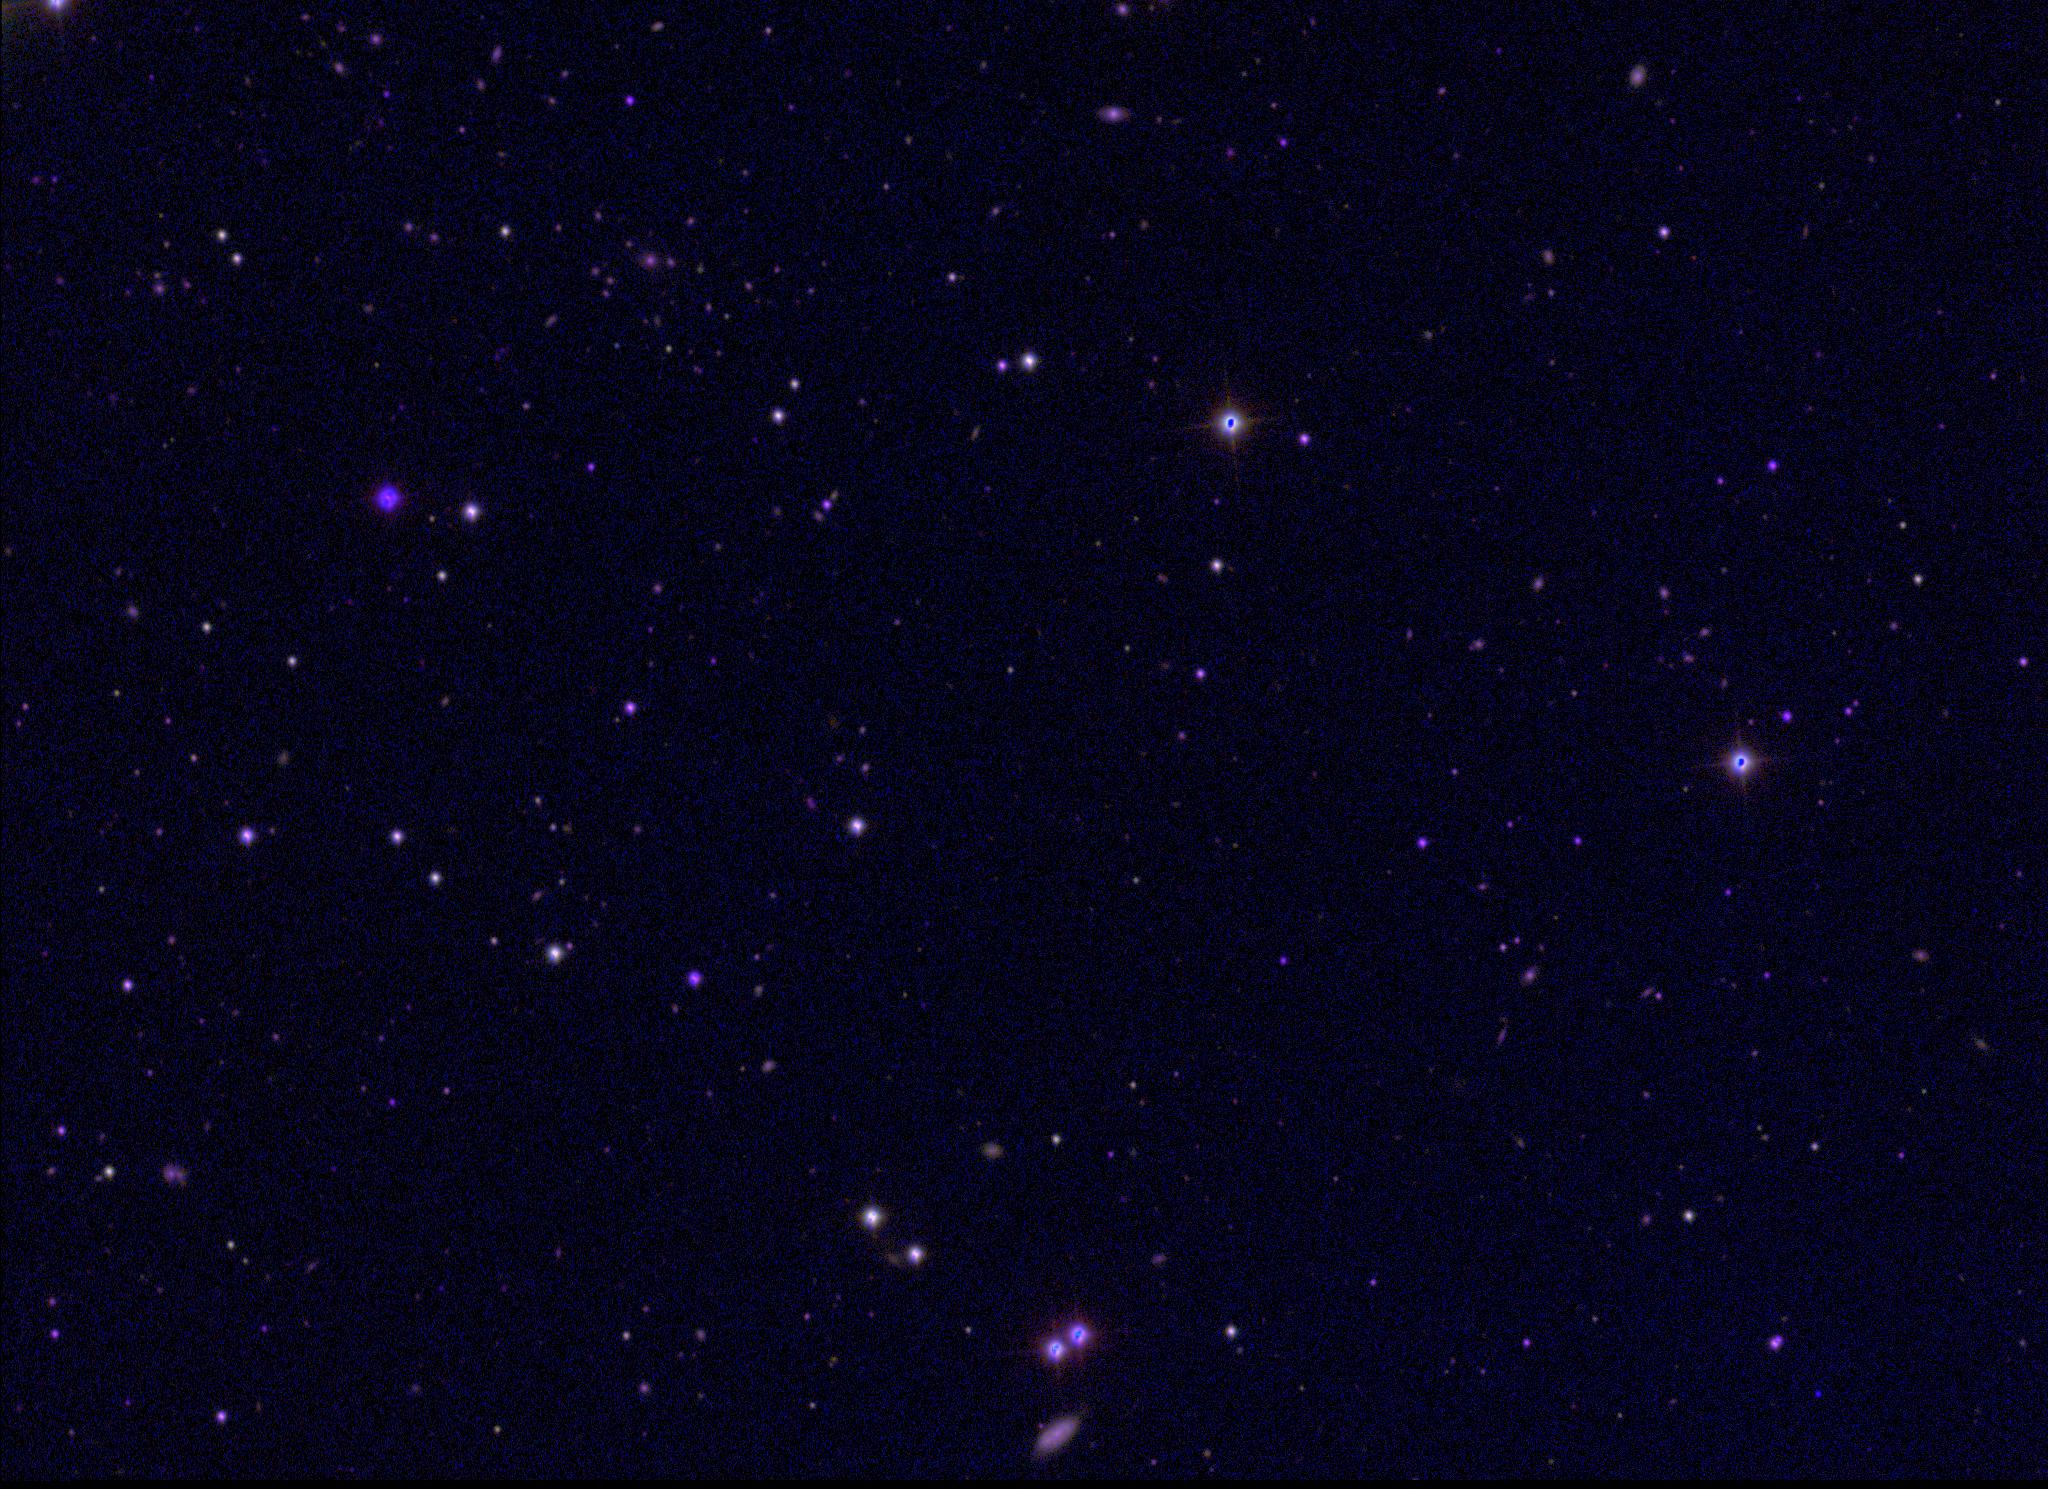L: (1811, 1386, 1825, 1398)
